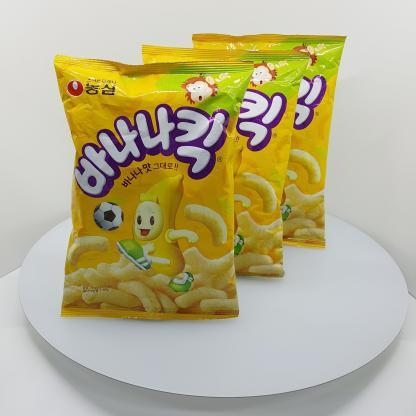Plastic Packaging: (53, 50, 251, 332)
